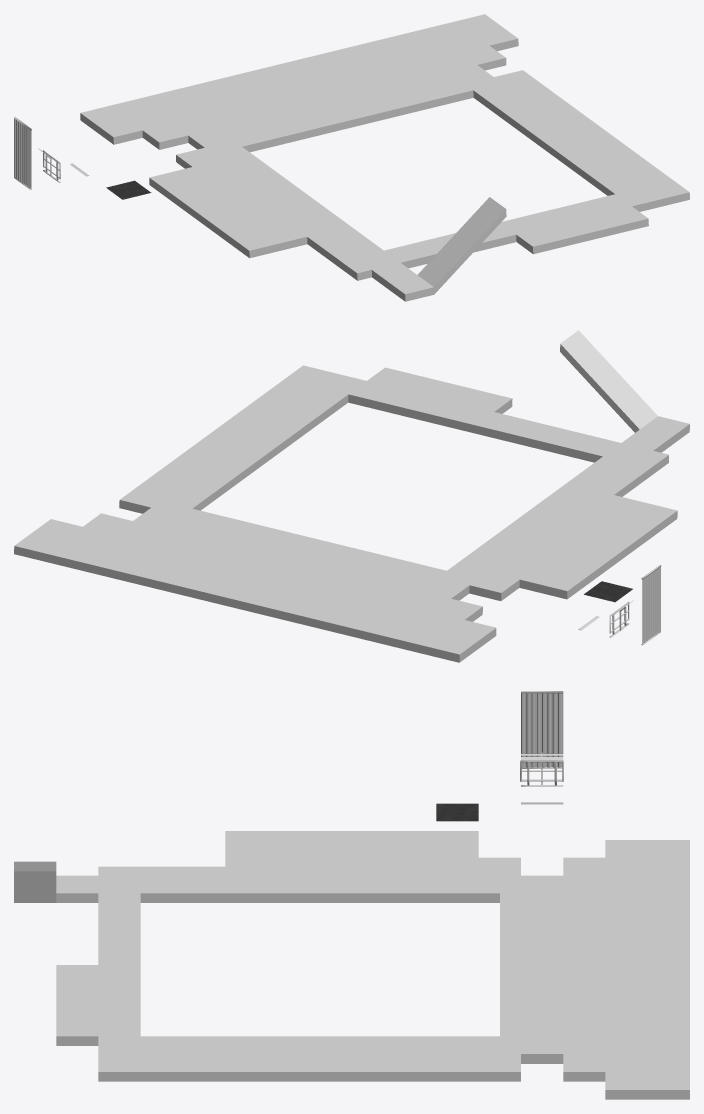
File: OilRigTemp.fbx
3 views of the same model, one above another, from view 1: azimuth 30°, elevation 25°; view 2: azimuth 150°, elevation 25°; view 3: azimuth 270°, elevation 25° (orthographic). The views are drawn at different scales.
Visible parts, largest first — view 1: Platform, Panel, Cube.001; view 2: Platform, Panel, Cube.001; view 3: Platform, Panel, Cube.001.
Part boxes in pixels (left/top/right/bottom): Platform: left=80, top=14, right=689, bottom=301; Panel: left=14, top=117, right=31, bottom=189; Cube.001: left=106, top=180, right=151, bottom=199; Platform: left=14, top=330, right=689, bottom=662; Panel: left=641, top=565, right=661, bottom=645; Cube.001: left=584, top=581, right=632, bottom=602; Platform: left=14, top=831, right=689, bottom=1099; Panel: left=521, top=691, right=563, bottom=768; Cube.001: left=436, top=803, right=478, bottom=821.
Bounding box in the file's own units: 3607 × 450 × 3200.
